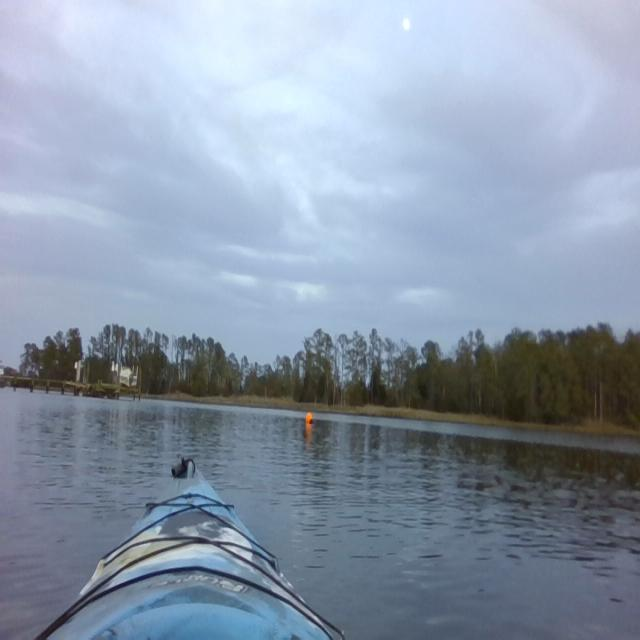Buoy: (304, 410, 315, 428)
